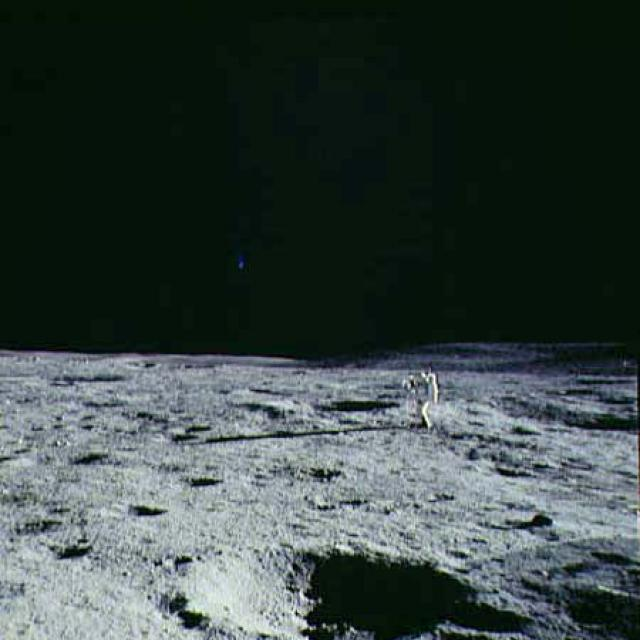crater: (149, 532, 526, 638), (494, 381, 638, 451), (298, 378, 406, 430), (17, 533, 116, 565), (94, 499, 196, 526), (169, 460, 228, 491)
